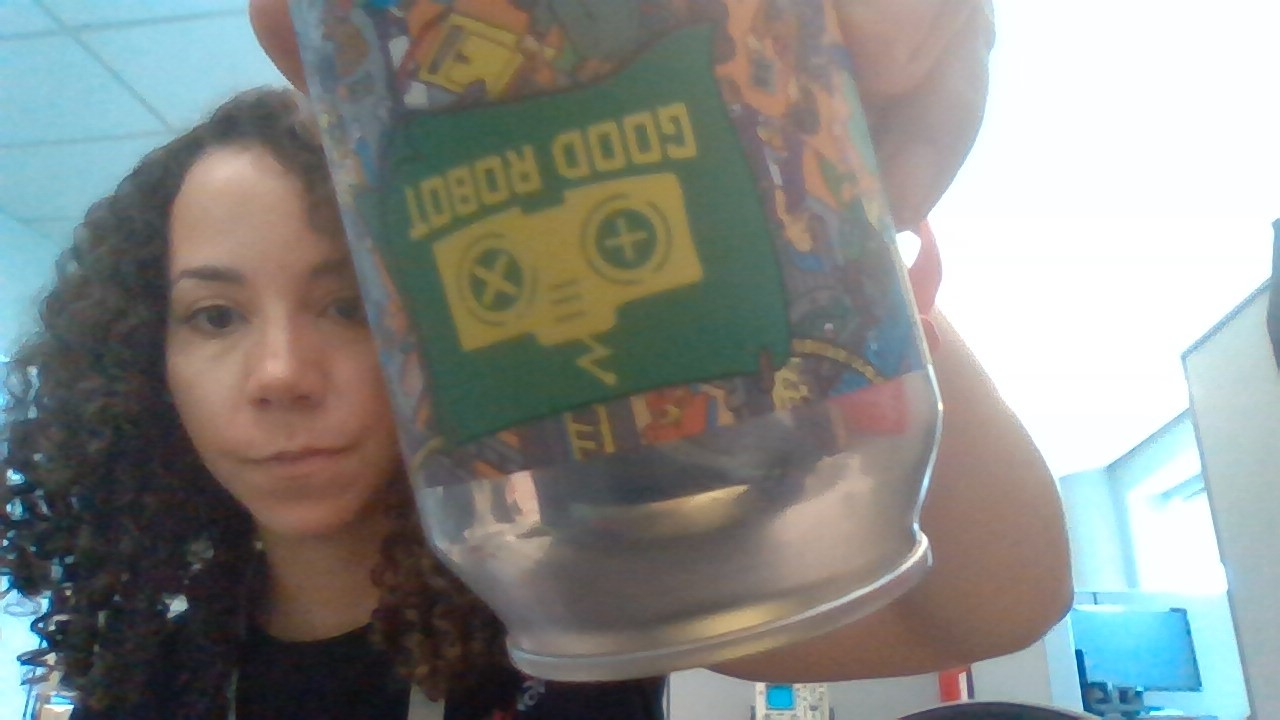Good Robot: (430, 167, 707, 388)
